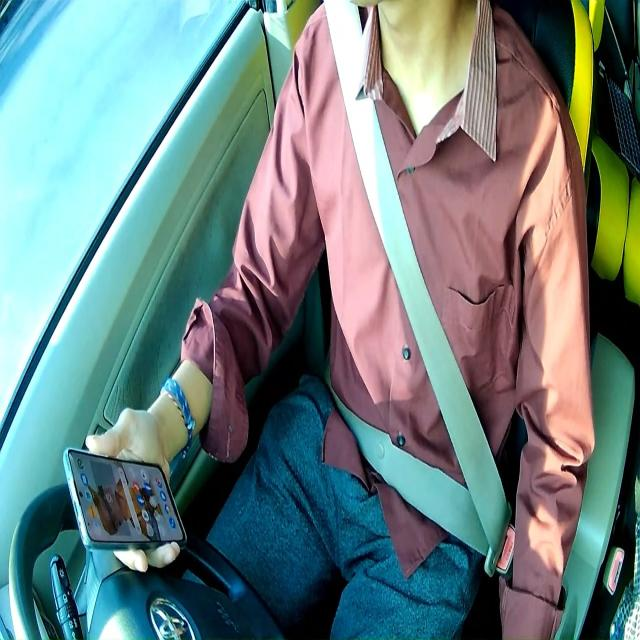phone: (61, 447, 190, 552)
